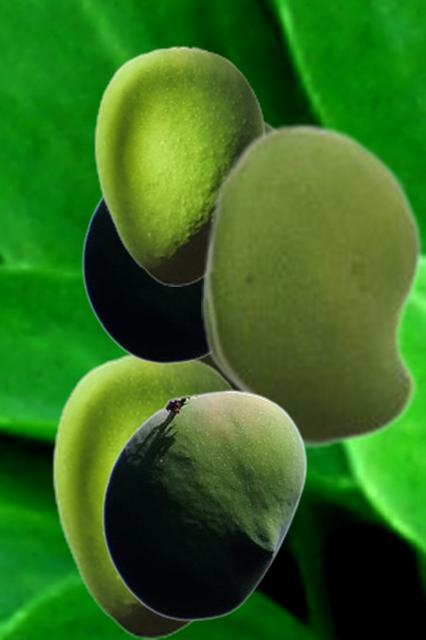green_mango: (204, 122, 423, 450), (51, 351, 233, 638), (101, 389, 307, 620), (93, 45, 265, 285), (81, 194, 207, 363), (201, 243, 236, 388)
